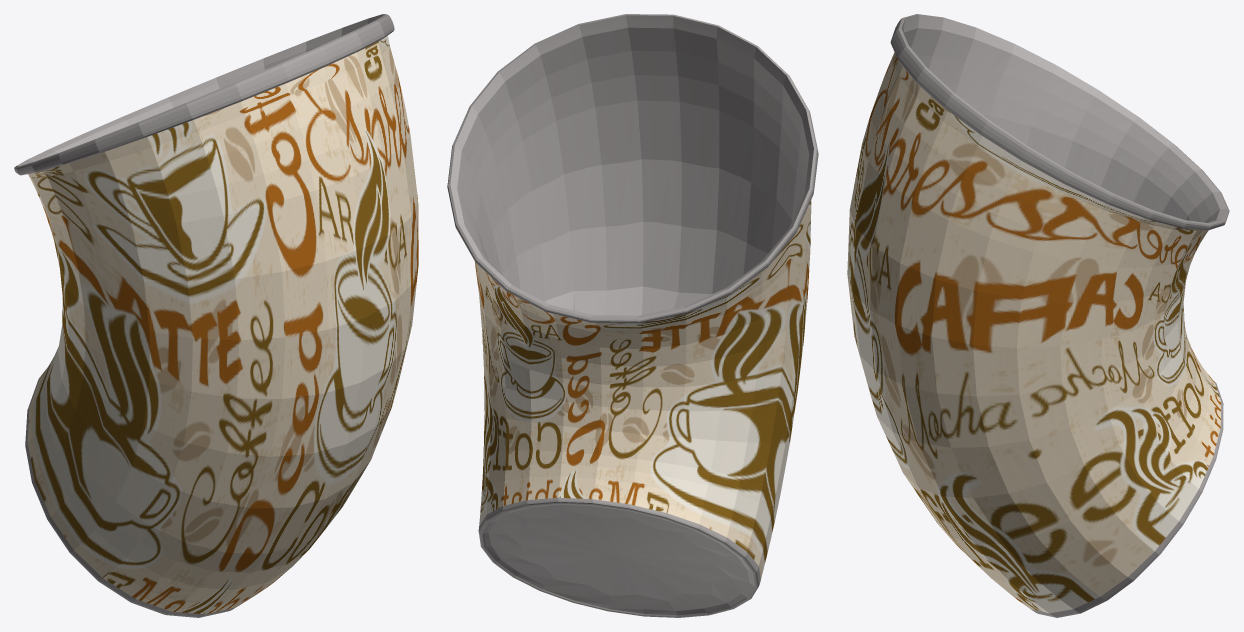
The model's file is bend_high_1.obj.
3 views of the same model, side by side, from view 1: azimuth 30°, elevation 25°; view 2: azimuth 150°, elevation 25°; view 3: azimuth 270°, elevation 25° (orthographic). The views are drawn at different scales.
Parts seen in each view (by area): view 1: model; view 2: model; view 3: model.
Part boxes in pixels (x1,y1,x2,y2): model: (14,14,418,617); model: (447,14,818,617); model: (847,14,1229,617).
Size of the model in its own units: 0.0827 by 0.1362 by 0.0829.
Materials: 1 (1 with a texture image).
